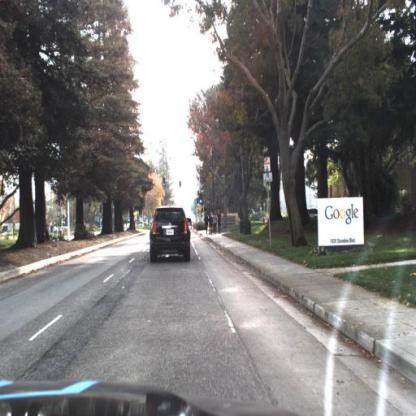car: (148, 209, 193, 263)
pedestrian: (205, 213, 210, 236), (219, 209, 223, 233), (214, 213, 218, 234), (210, 215, 213, 235)
trafficLight-Green: (200, 192, 204, 208), (162, 176, 167, 188), (179, 181, 184, 193), (196, 199, 201, 211), (200, 192, 204, 206), (163, 178, 167, 191), (179, 181, 183, 191)
